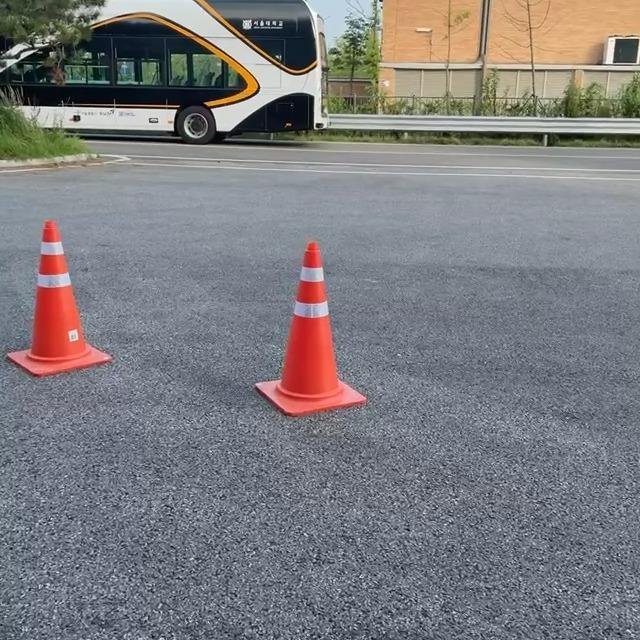fallen_object: (220, 223, 410, 464), (9, 200, 94, 409)
